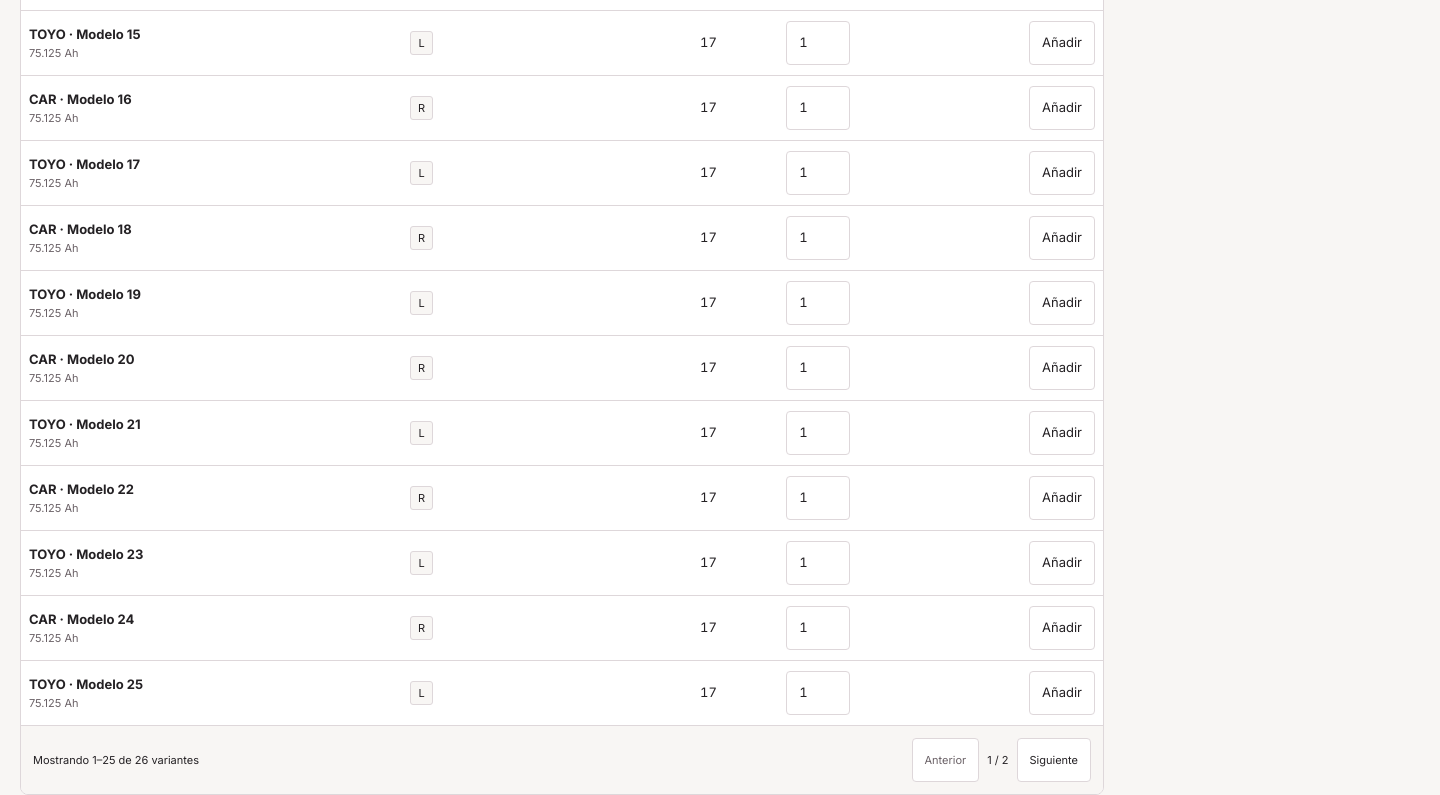
Test: F3 grouped catalog and compact route › groups only the displayed page even when a pair crosses its boundary
The image size is (1440, 795).
(page scrolled)
Click the button with aria-label "Añadir Modelo 25 L". click: point(1062, 693)
box: [1029, 671, 1095, 715]
(page scrolled)
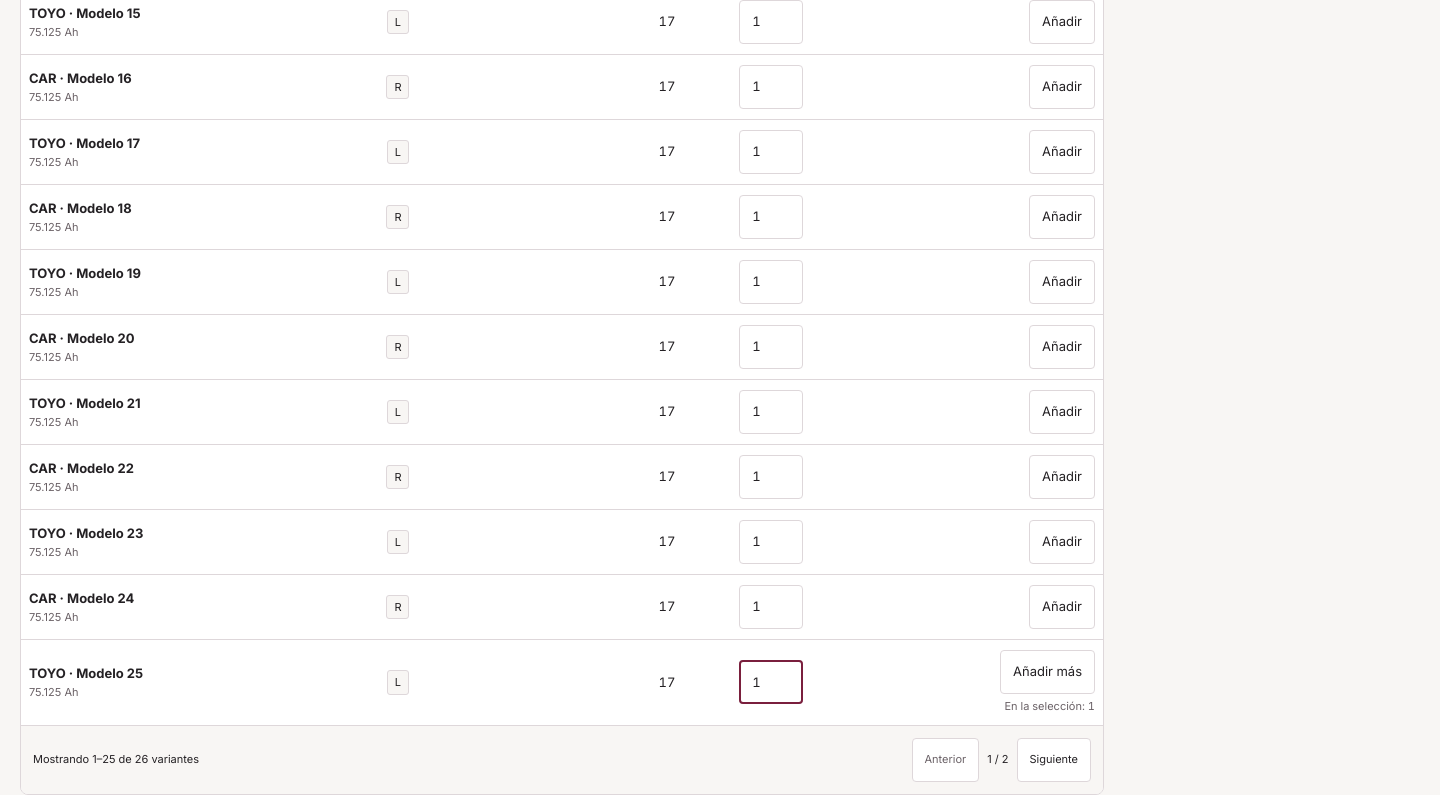
Click the button with aria-label "Página siguiente". click: point(1054, 760)
box: [1016, 738, 1091, 782]
(page scrolled)
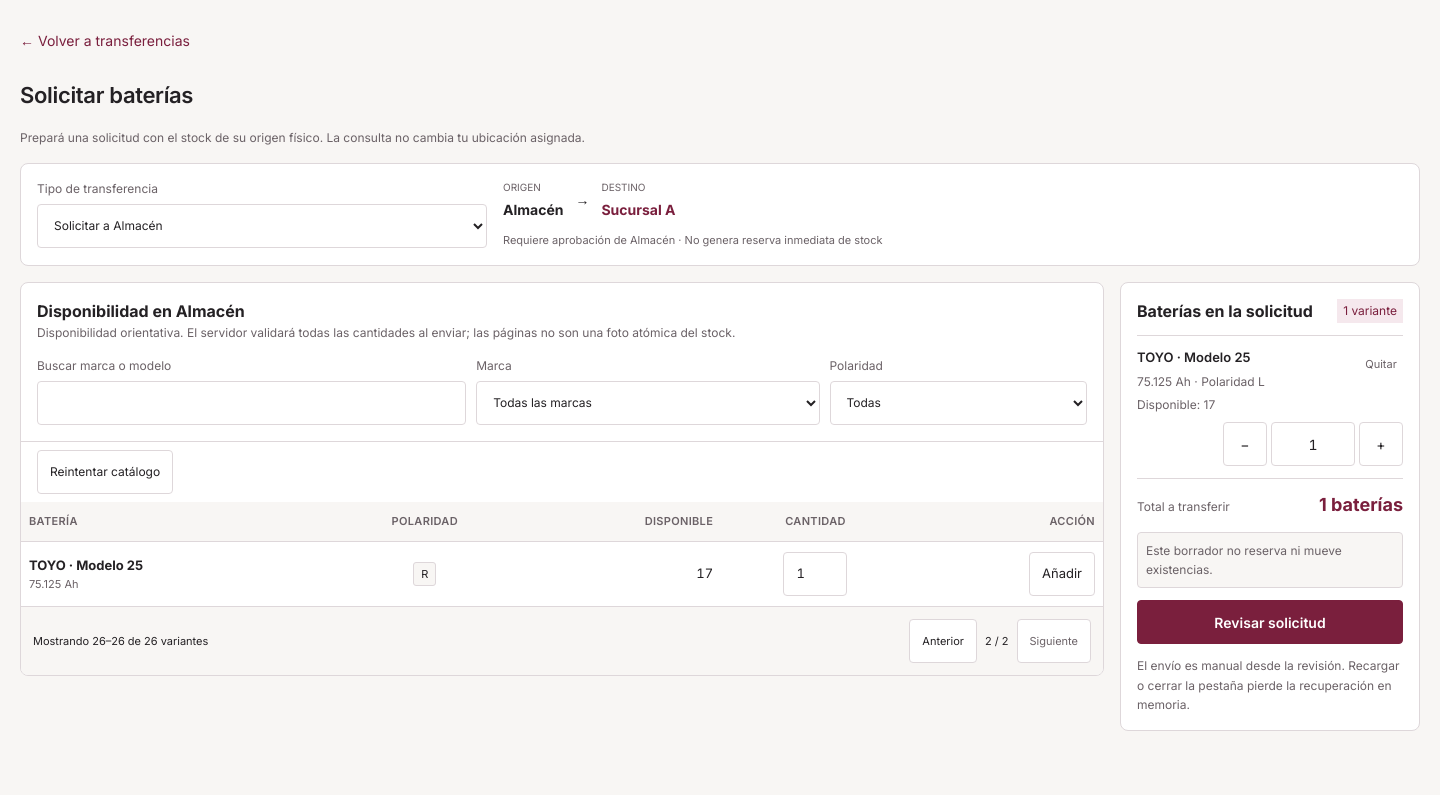
Click the button with aria-label "Añadir Modelo 25 R". click: point(1062, 574)
box: [1029, 552, 1095, 596]
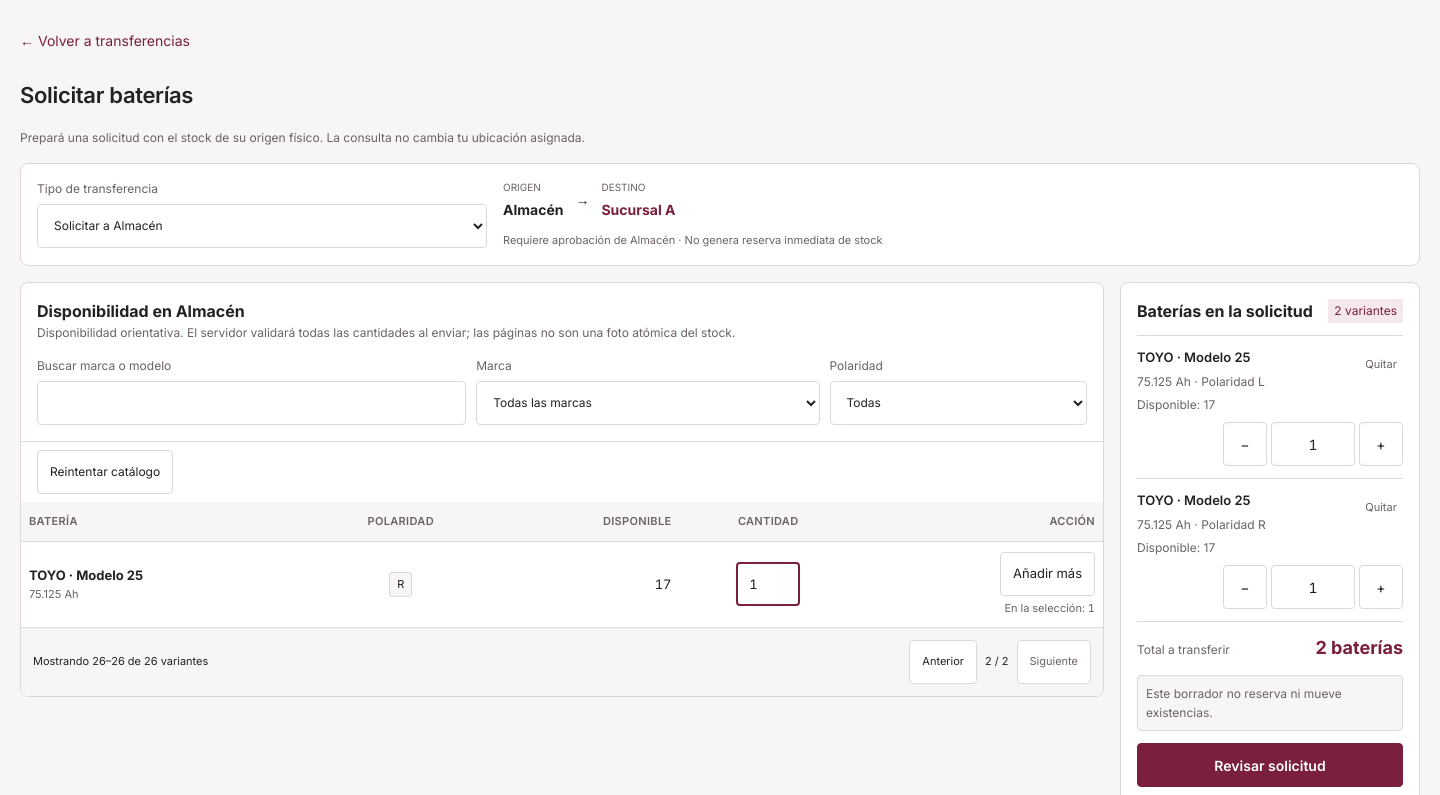
expect the text named "Total a transferir" reads "2 baterías": met, box [1316, 634, 1403, 663]
